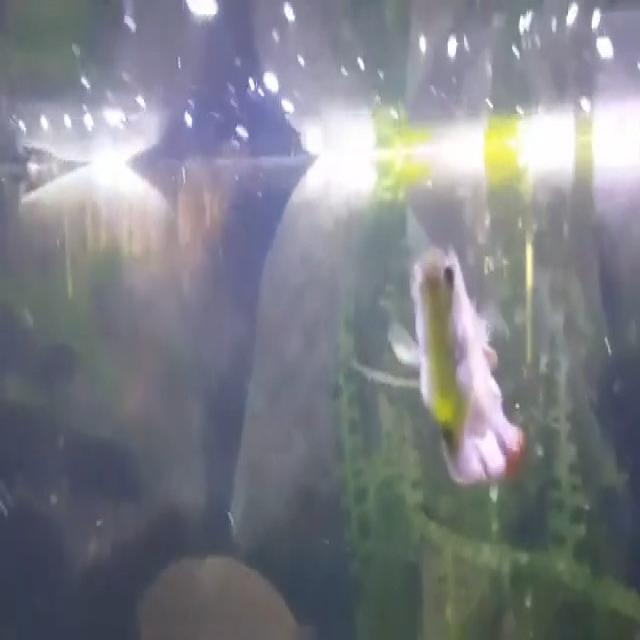fish: (401, 237, 540, 515)
